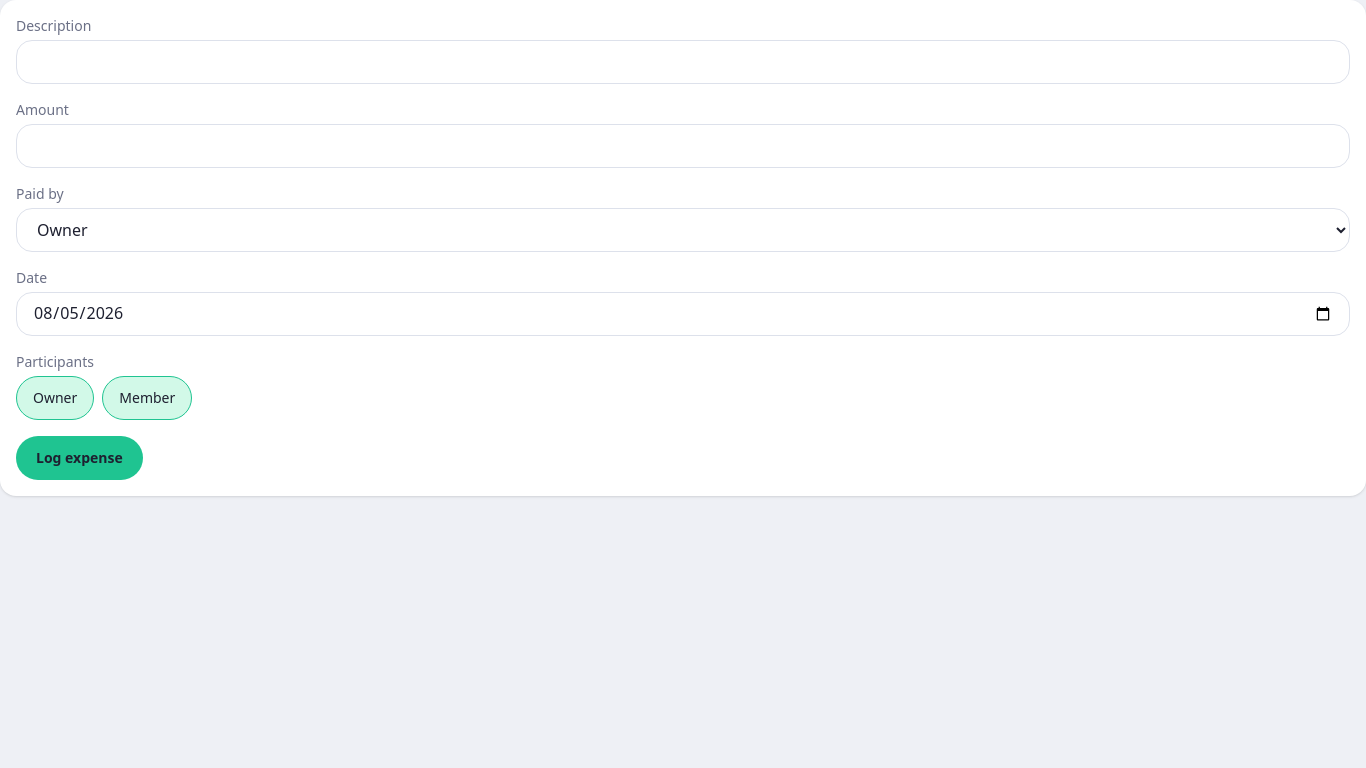
AddExpenseForm › requires at least one participant
This screenshot has width=1366, height=768.
Type "Dinner" into the field labelled "Description" at (683, 62), box [16,40,1350,84]
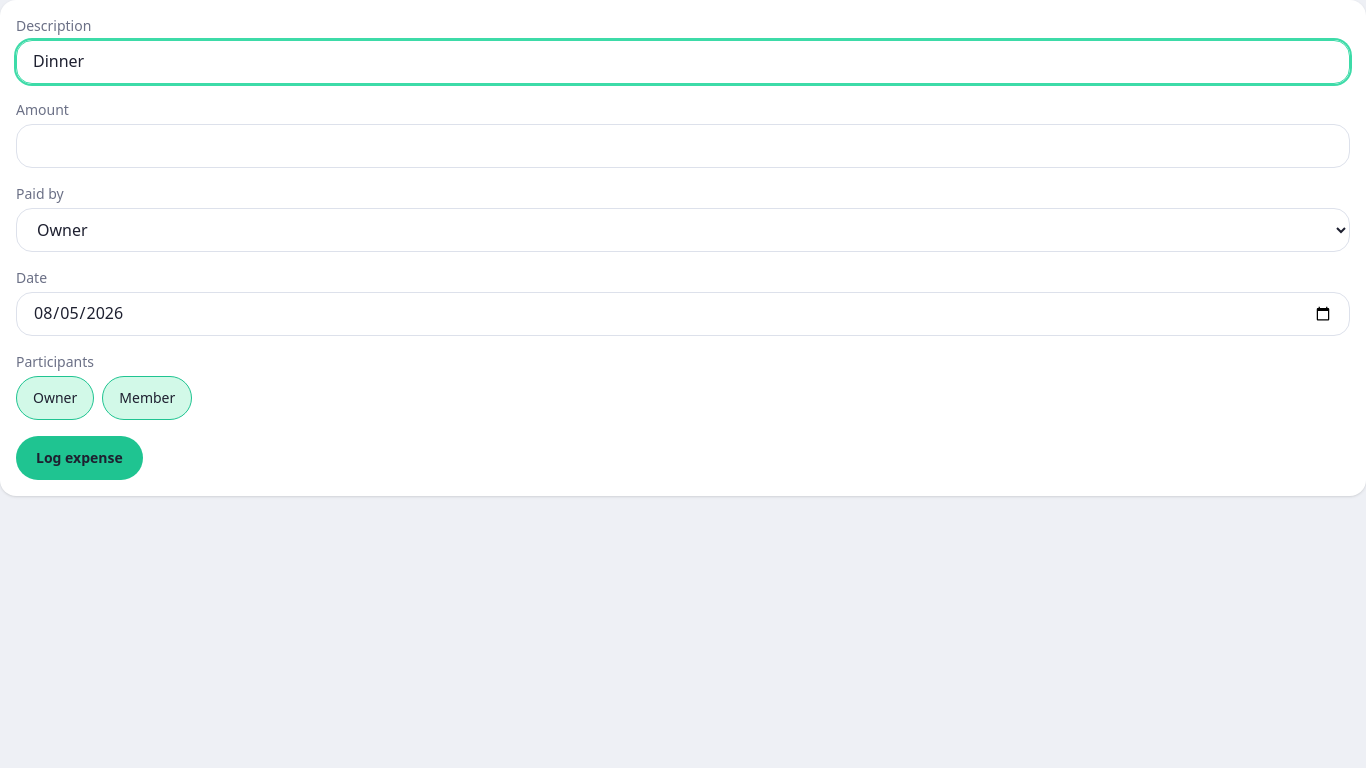
Type "40" into the number field labelled "Amount" at (683, 146), box [16,124,1350,168]
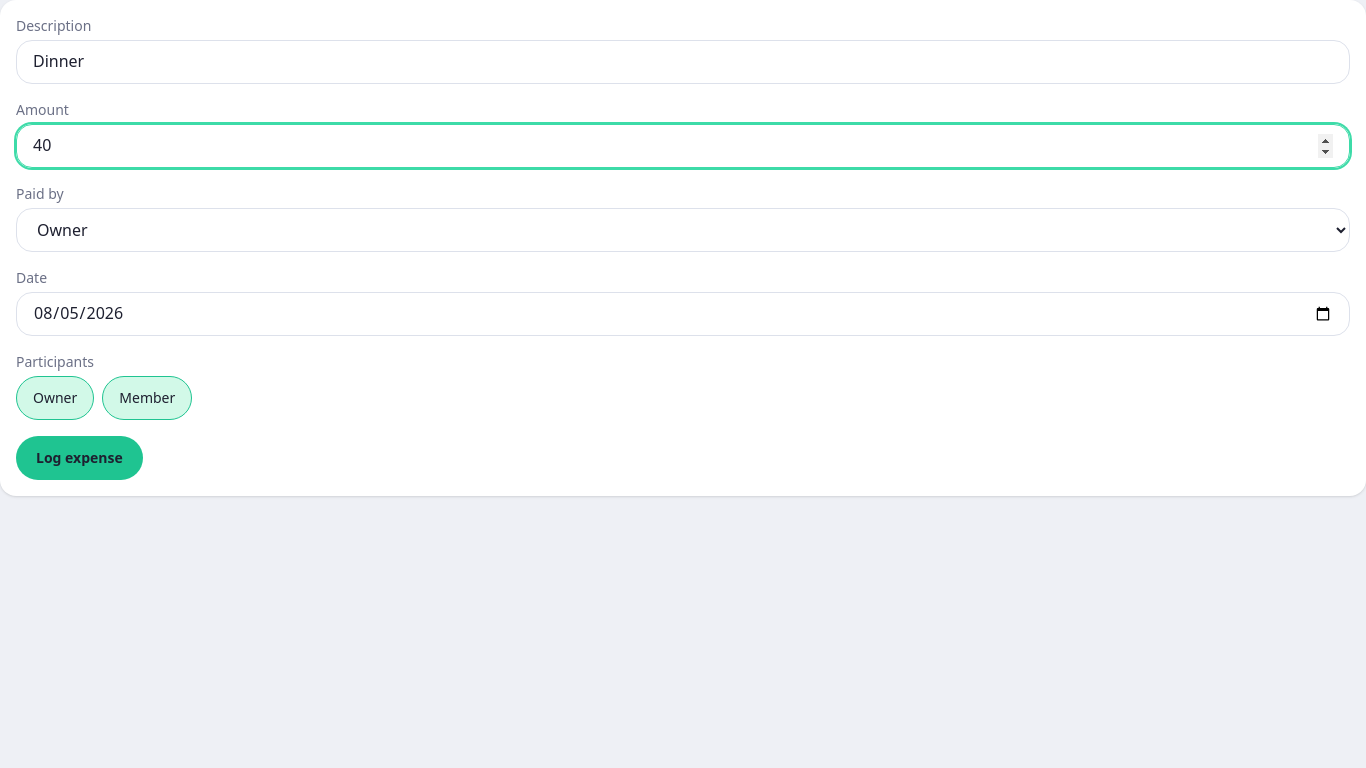
Click the checkbox labelled "Owner" at (55, 398), box [16,376,94,420]
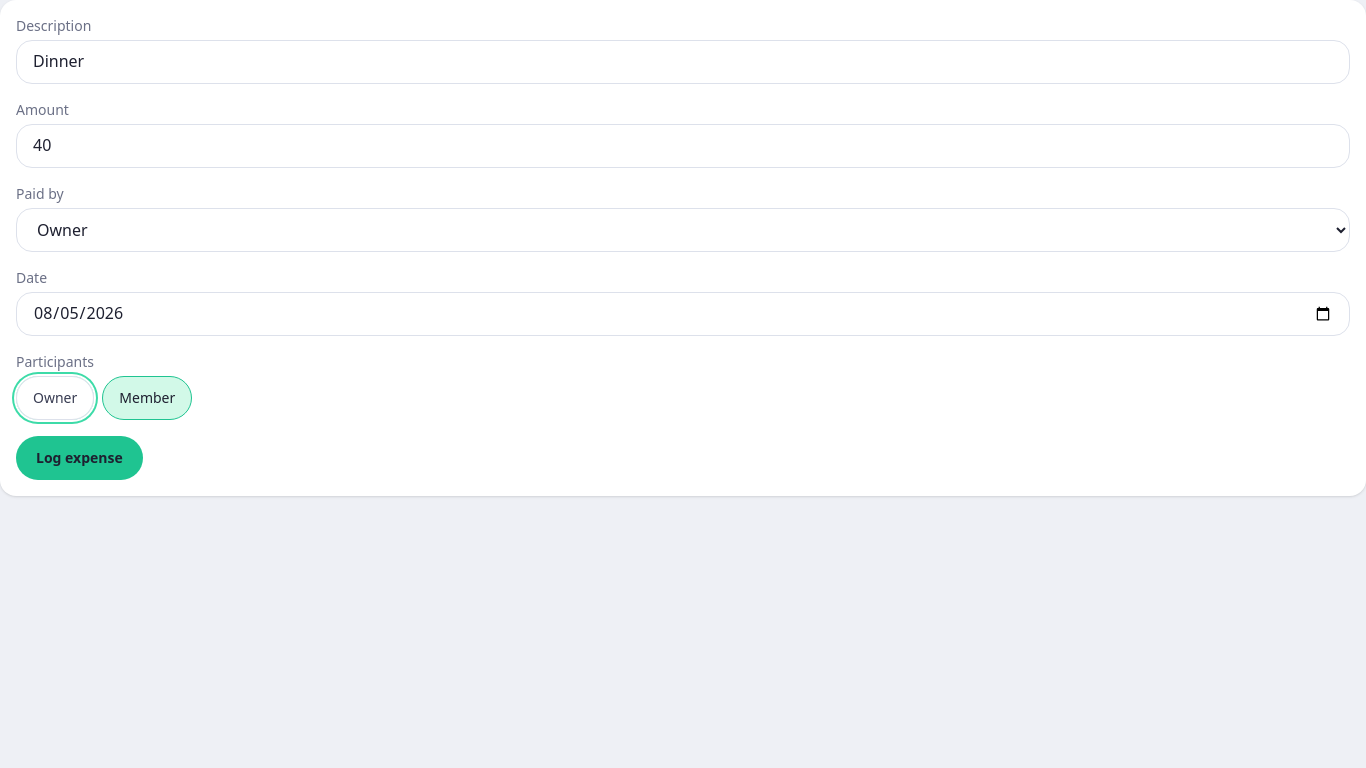
Click the checkbox labelled "Member" at (147, 398), box [102,376,192,420]
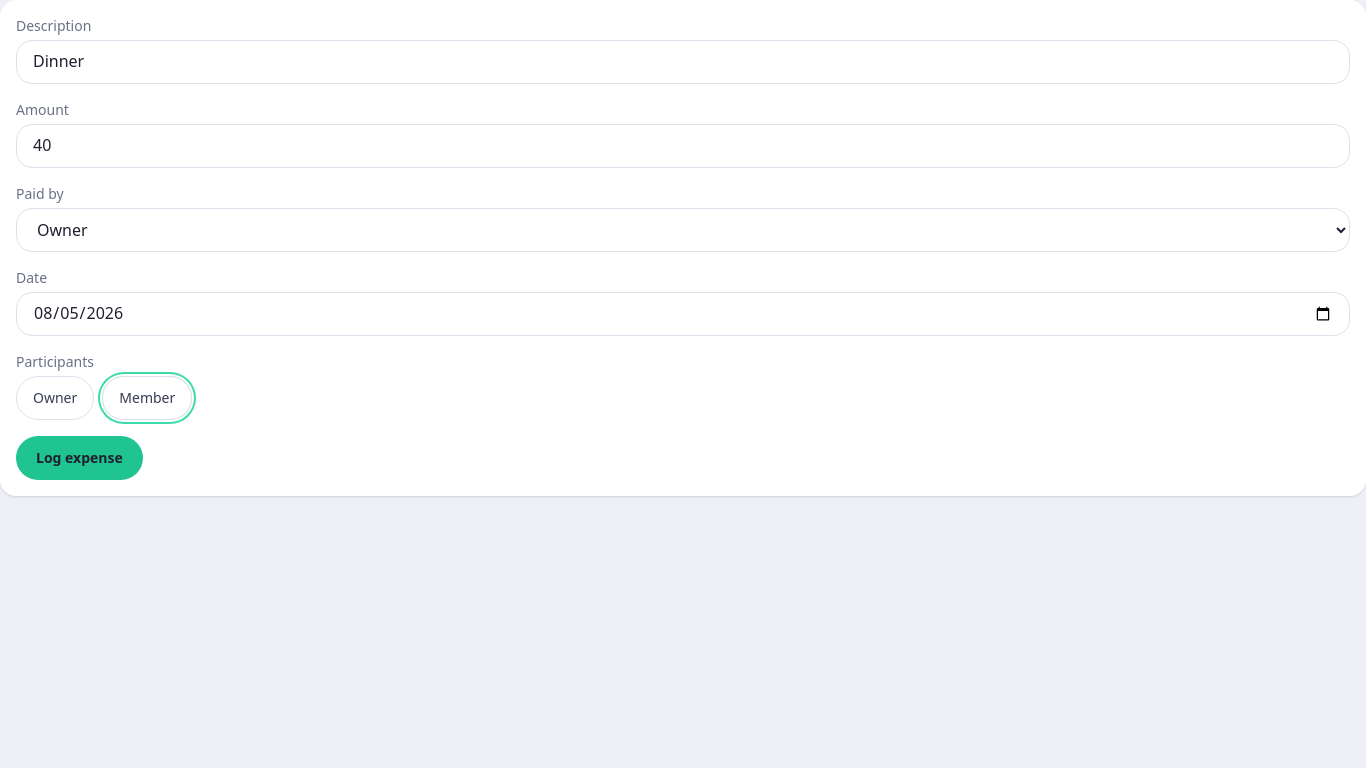
Click the button "Log expense" at (79, 458), box [16,436,143,480]
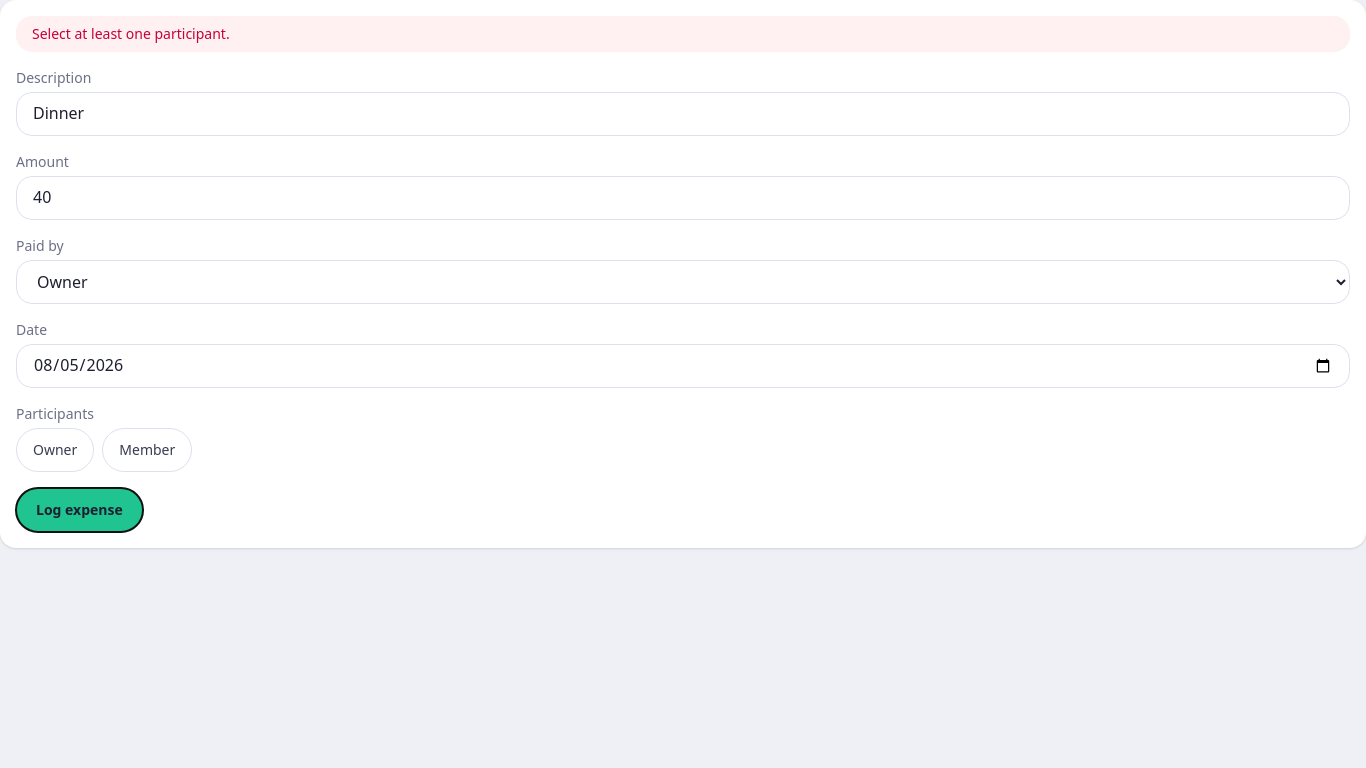
Result: the message shows "participant" at [32,24,230,43]
